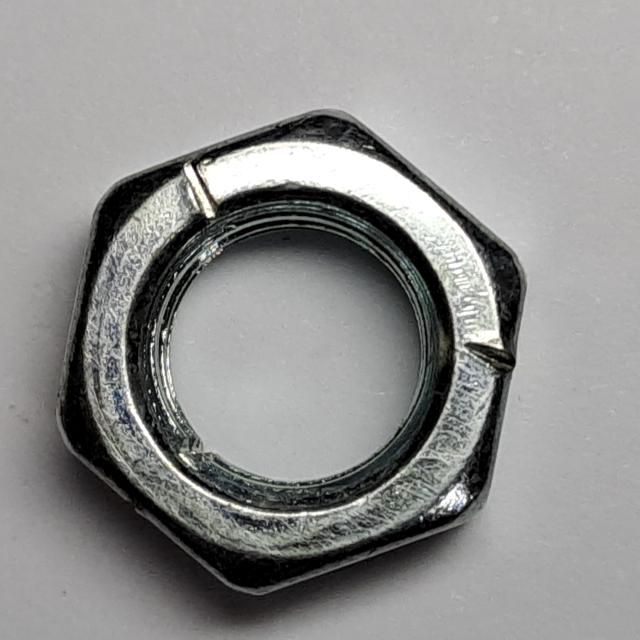Scratches: (42, 98, 542, 615)
